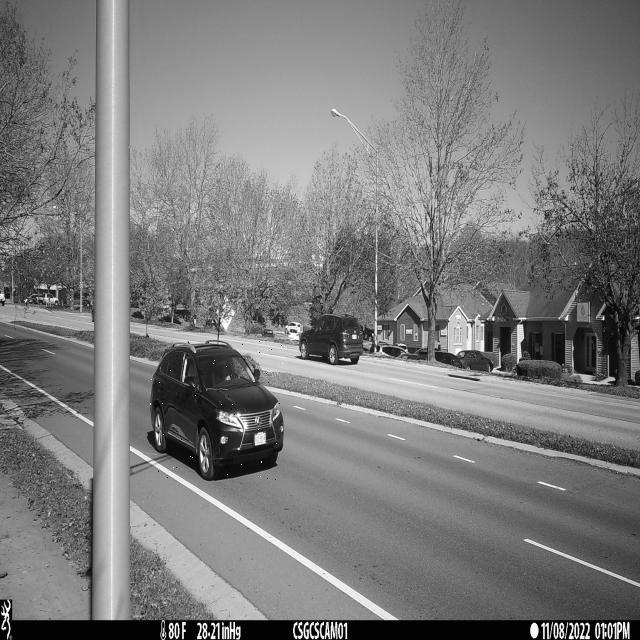SUV: (147, 340, 284, 482)
